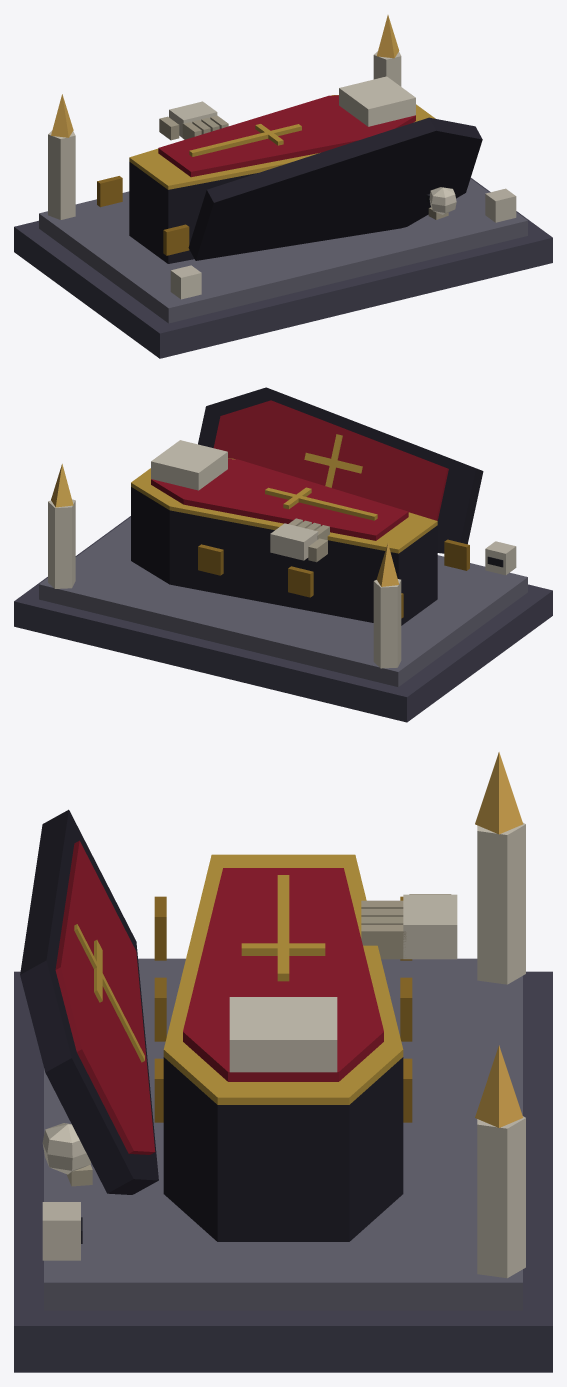
Rendered from Decor_VampireCrypt_Coffin.fbx.
3 renders of one model, top to bottom at view 1: azimuth 30°, elevation 25°; view 2: azimuth 150°, elevation 25°; view 3: azimuth 270°, elevation 25°, orthographic. The views are drawn at different scales.
Visible parts, largest first — view 1: Coffin_Body; view 2: Coffin_Body; view 3: Coffin_Body.
Part boxes in pixels (bbox=[...]): Coffin_Body: bbox=[14, 15, 552, 358]; Coffin_Body: bbox=[14, 387, 552, 722]; Coffin_Body: bbox=[14, 752, 552, 1372].
Bounding box in the file's own units: 14 × 5.68 × 9.
